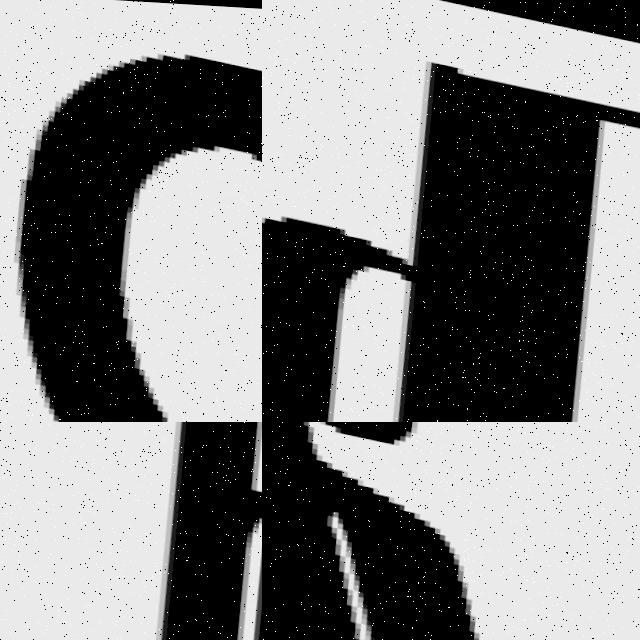A: (262, 422, 577, 640)
B: (262, 61, 640, 422)
D: (85, 422, 262, 640)
O: (8, 51, 262, 422)
